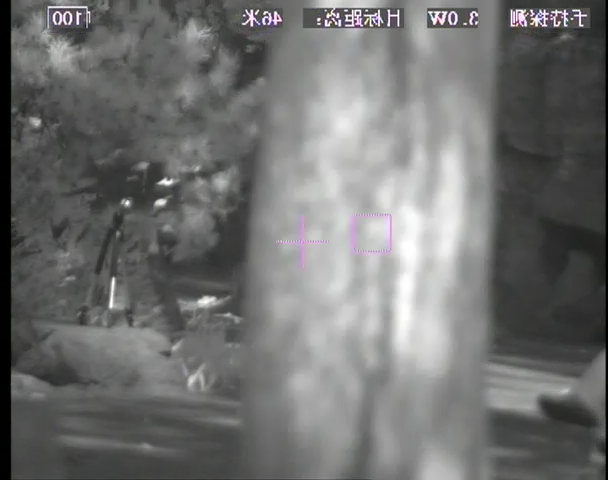my: (119, 198, 130, 209)
